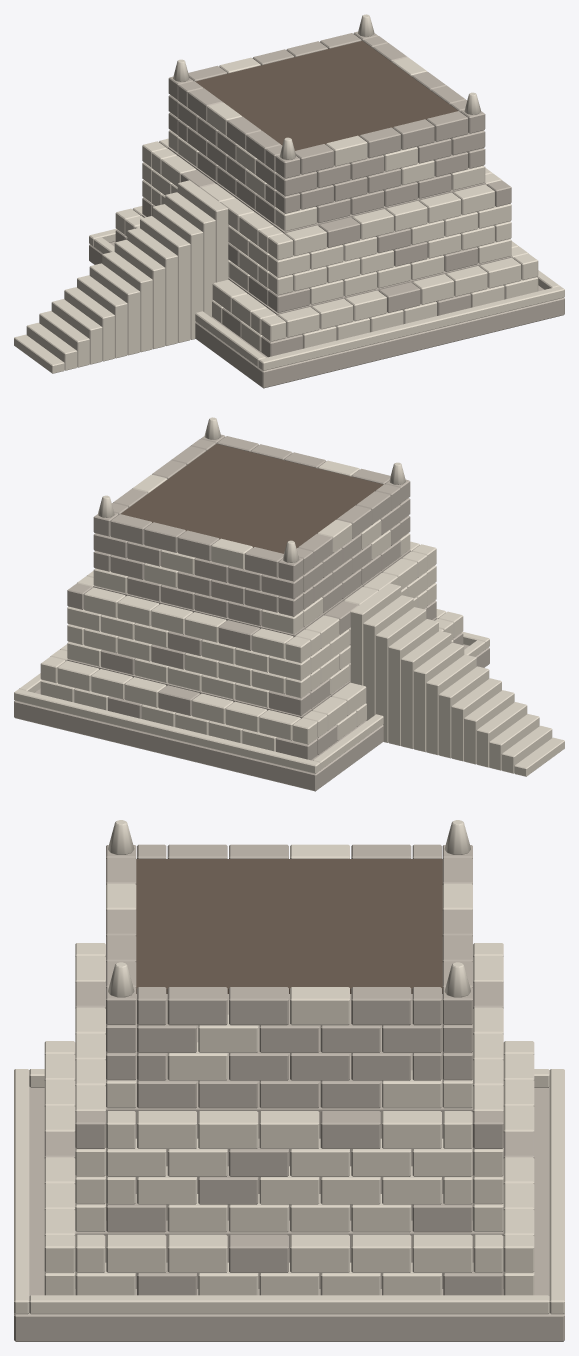
File: ezekiel-altar.glb
The picture shows the model from 3 angles, top to bottom: view 1: azimuth 30°, elevation 25°; view 2: azimuth 150°, elevation 25°; view 3: azimuth 270°, elevation 25°; orthographic projection. The views are drawn at different scales.
Parts seen in each view (by area): view 1: hearth, ledges, steps, base; view 2: hearth, ledges, steps, base; view 3: ledges, hearth, base.
Part boxes in pixels (x1,y1,x2,y2): hearth: [168, 14, 485, 231]; ledges: [115, 138, 538, 357]; steps: [14, 180, 228, 373]; base: [89, 228, 564, 388]; hearth: [93, 417, 410, 634]; ledges: [40, 541, 463, 760]; steps: [350, 583, 564, 776]; base: [14, 631, 489, 791]; ledges: [44, 943, 534, 1295]; hearth: [106, 820, 472, 1108]; base: [14, 1069, 564, 1341].
Size of the model in its own units: 26.5 by 12 by 18.
